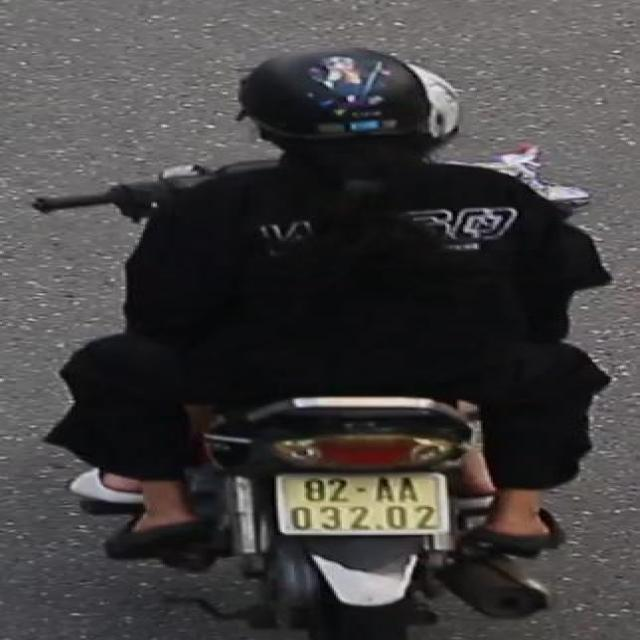LP: (264, 465, 456, 540)
helmet: (231, 46, 463, 187)
